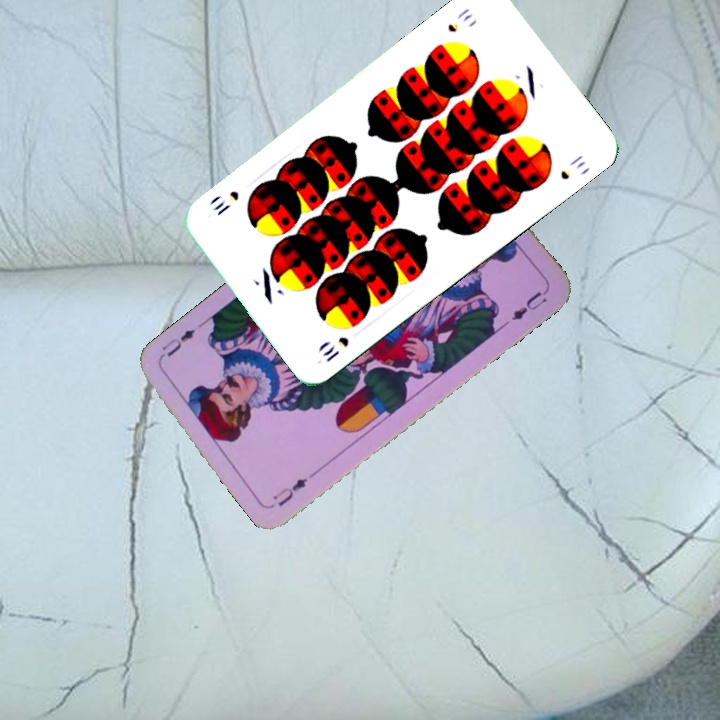EU: (269, 473, 311, 510)
S10: (318, 332, 352, 365), (443, 3, 475, 35)
